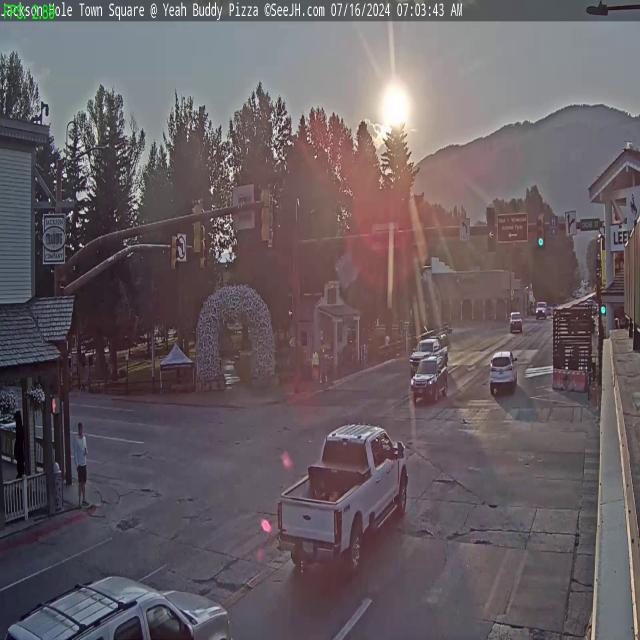person: (74, 422, 88, 508), (320, 343, 327, 385), (312, 347, 318, 379)
pickup: (276, 420, 417, 576), (409, 334, 448, 371)
suv: (2, 568, 236, 639), (411, 349, 449, 404), (488, 348, 516, 393), (509, 311, 522, 333)
traffic light: (261, 184, 273, 246), (190, 198, 203, 255), (486, 208, 496, 252), (536, 214, 546, 248)
